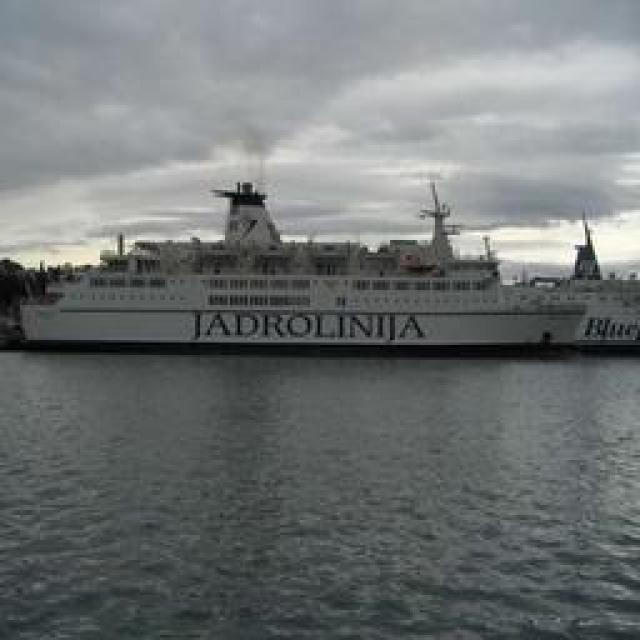CIV_Ship: (39, 171, 619, 351)
